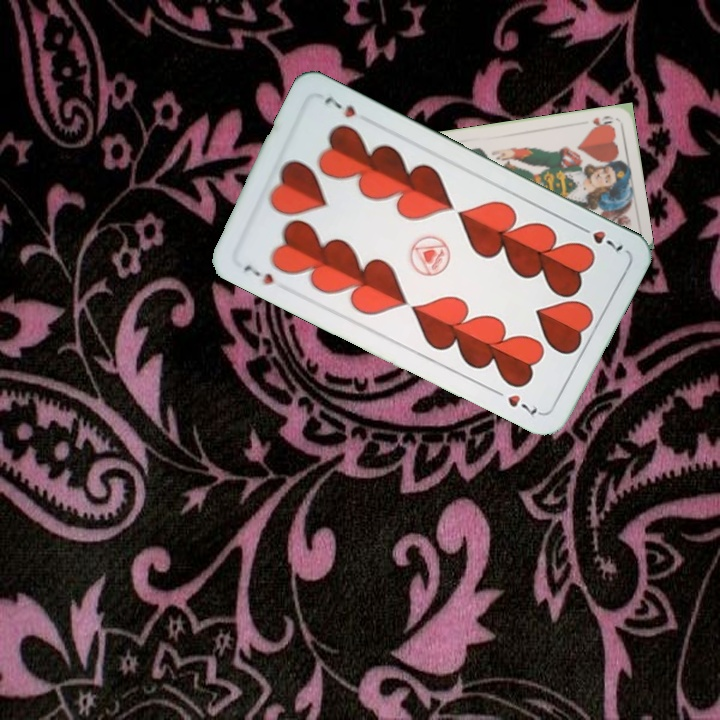H7: (573, 221, 626, 254), (239, 260, 285, 290)
HO: (586, 111, 616, 131)
